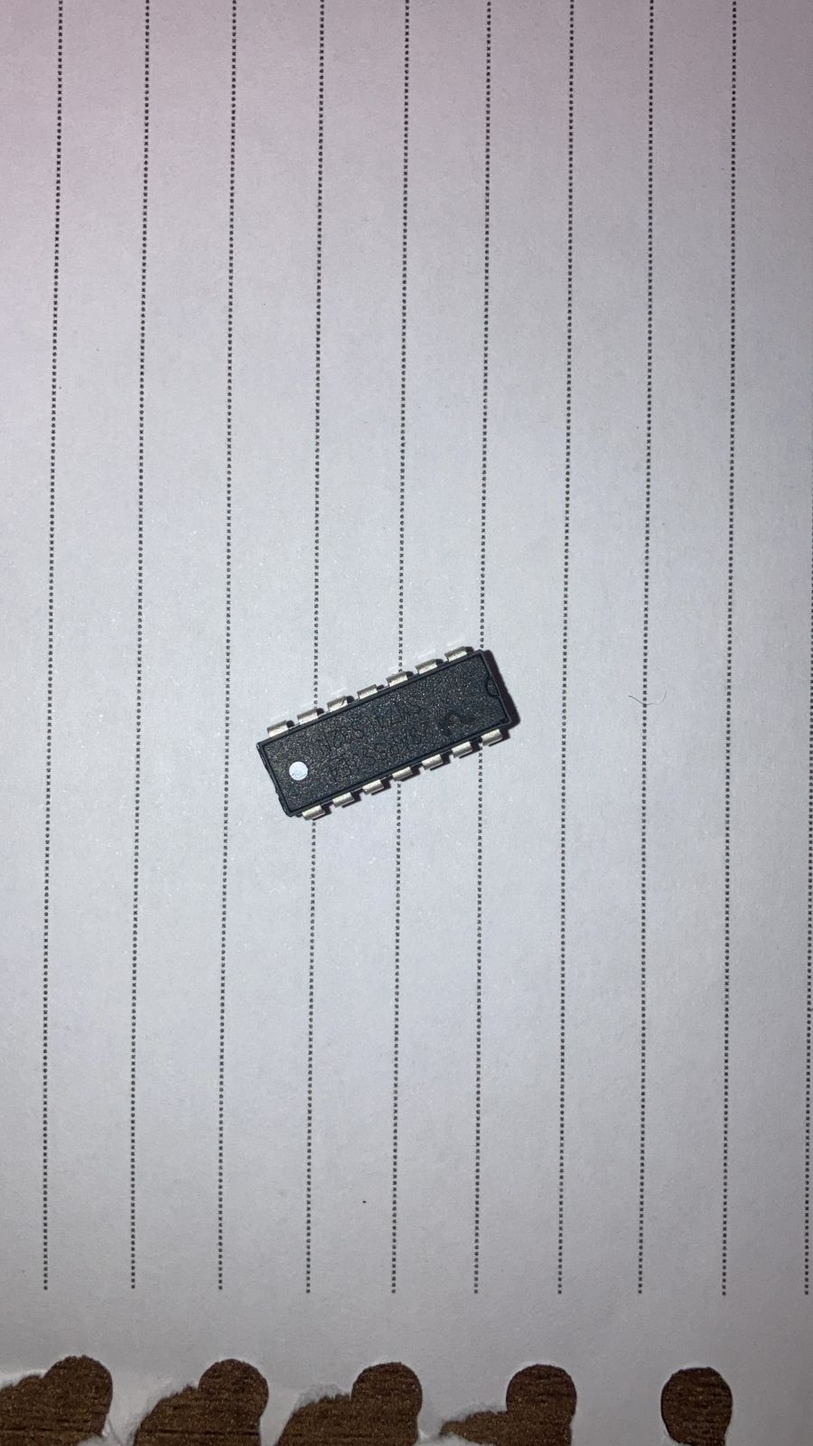IC: (246, 637, 523, 834)
notch: (482, 674, 506, 701)
